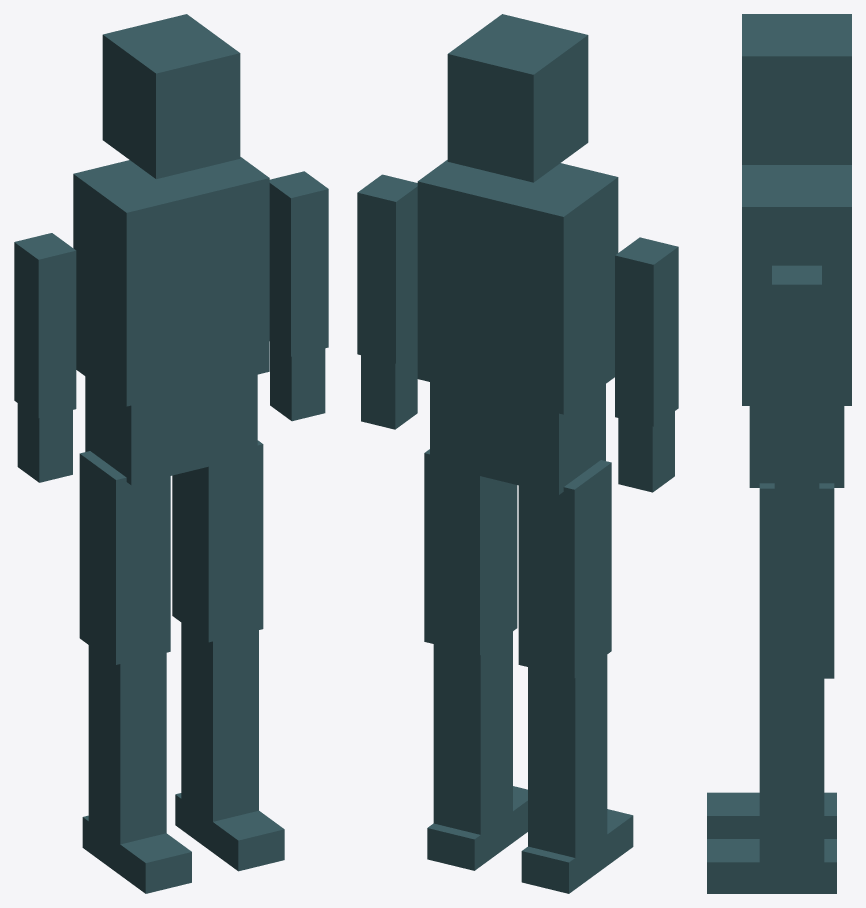
File: walkers.glb
3 renders of one model, left to right at view 1: azimuth 30°, elevation 25°; view 2: azimuth 150°, elevation 25°; view 3: azimuth 270°, elevation 25°, orthographic. The views are drawn at different scales.
Parts seen in each view (by area): view 1: WalkerBase; view 2: WalkerBase; view 3: WalkerBase.
Part boxes in pixels (left/top/right/bottom): WalkerBase: left=14, top=14, right=328, bottom=893; WalkerBase: left=357, top=14, right=678, bottom=893; WalkerBase: left=707, top=14, right=851, bottom=893.
Bounding box in the file's own units: 0.69 × 1.82 × 0.29.
